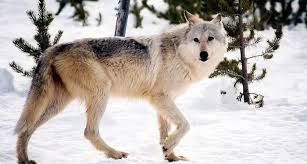Lobo: (45, 11, 231, 145)
